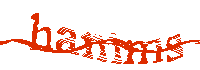a: (57, 26, 78, 55)
h: (30, 11, 53, 52)
m: (82, 32, 123, 66), (125, 39, 163, 64)
s: (166, 33, 183, 64)
